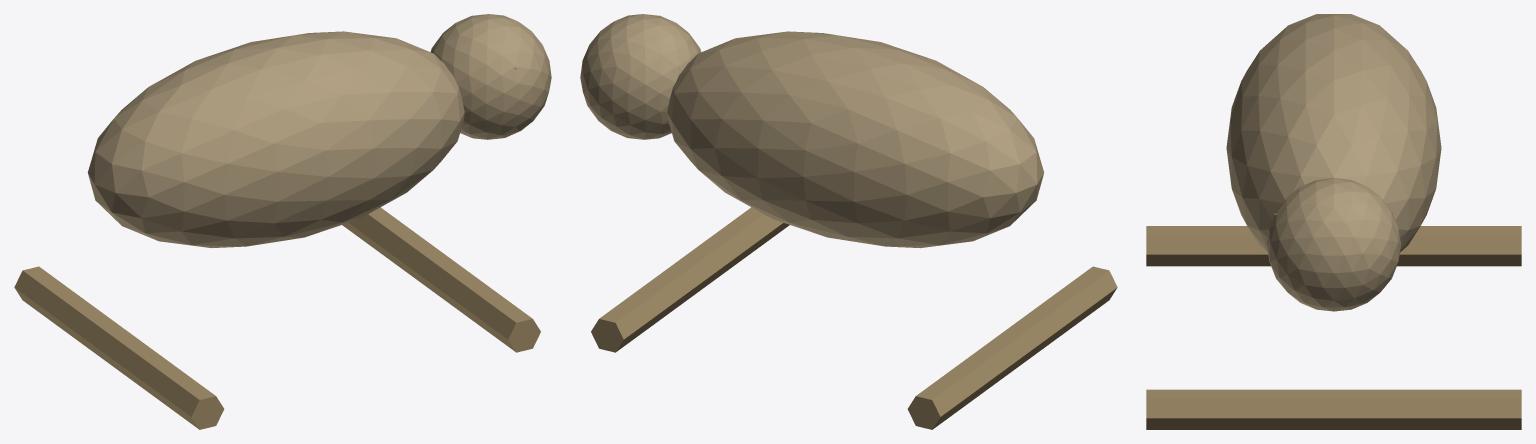
The model's file is deer.glb.
3 renders of one model, left to right at view 1: azimuth 30°, elevation 25°; view 2: azimuth 150°, elevation 25°; view 3: azimuth 270°, elevation 25°, orthographic. The views are drawn at different scales.
Parts seen in each view (by area): view 1: world; view 2: world; view 3: world.
Part boxes in pixels (<box>): world: <box>14,14,551,429</box>; world: <box>580,14,1117,429</box>; world: <box>1146,14,1521,429</box>.
Size of the model in its own units: 1.23 by 0.722 by 0.838.
